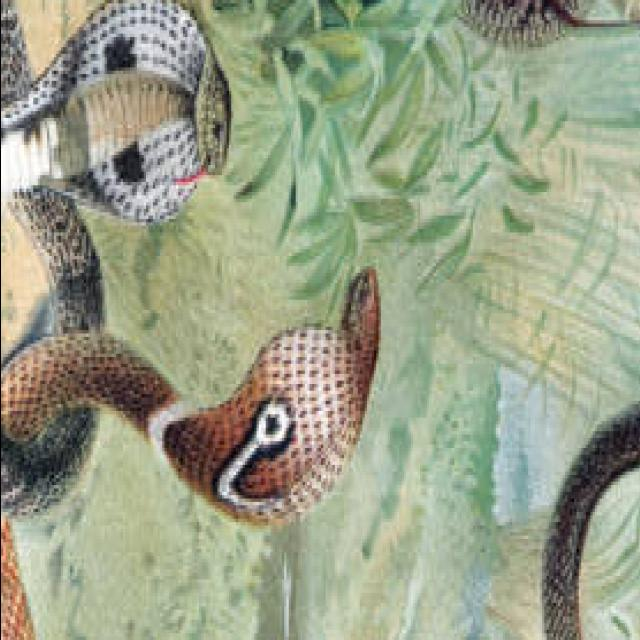Snake: (0, 0, 385, 640), (366, 0, 640, 640)
